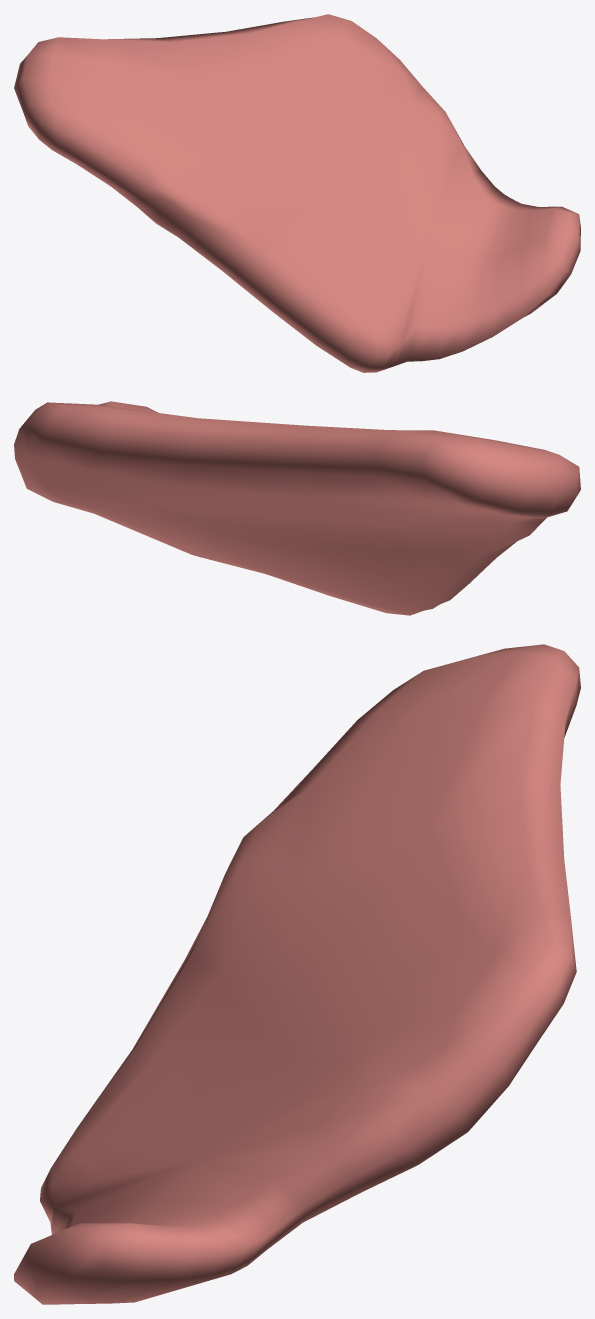
3 views of the same model, one above another, from view 1: azimuth 30°, elevation 25°; view 2: azimuth 150°, elevation 25°; view 3: azimuth 270°, elevation 25° (orthographic). The views are drawn at different scales.
Visible parts, largest first — view 1: ZA_b7b2cc017b7e6e1b; view 2: ZA_b7b2cc017b7e6e1b; view 3: ZA_b7b2cc017b7e6e1b.
Boxes of the visible parts, box(x1,y1,x2,y2) form: ZA_b7b2cc017b7e6e1b: box(14, 14, 580, 372); ZA_b7b2cc017b7e6e1b: box(14, 401, 580, 615); ZA_b7b2cc017b7e6e1b: box(14, 644, 580, 1304).
Size of the model in its own units: 0.00493 by 0.00286 by 0.00332.
